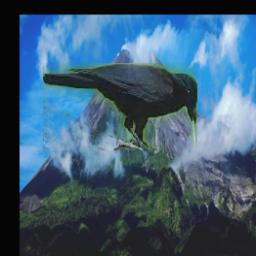Crow: (43, 63, 197, 150)
